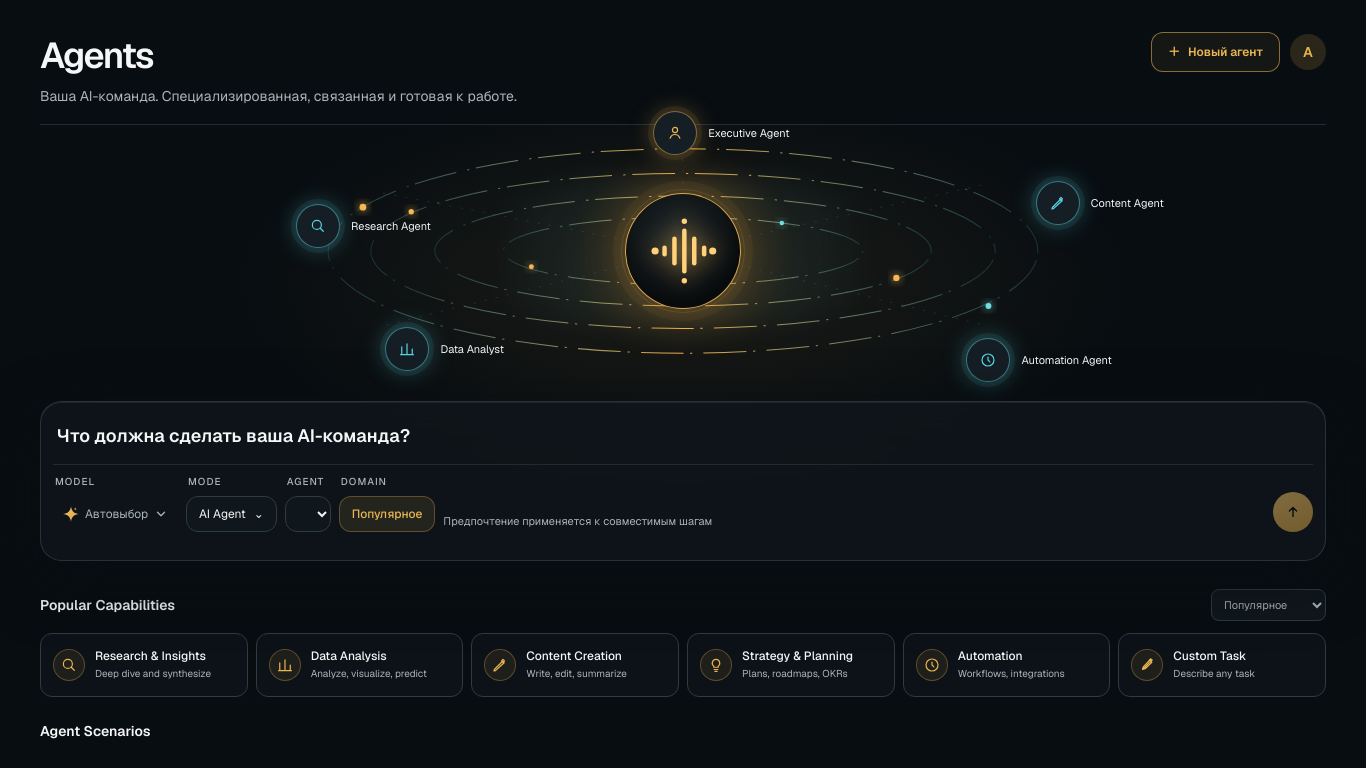
Test case: AgentsPage › lists custom agents under "Мои агенты" tab
Select "Мои агенты" in the dropdown named "Категория агентов" at (1268, 605), box [1211,589,1326,621]
(page scrolled)
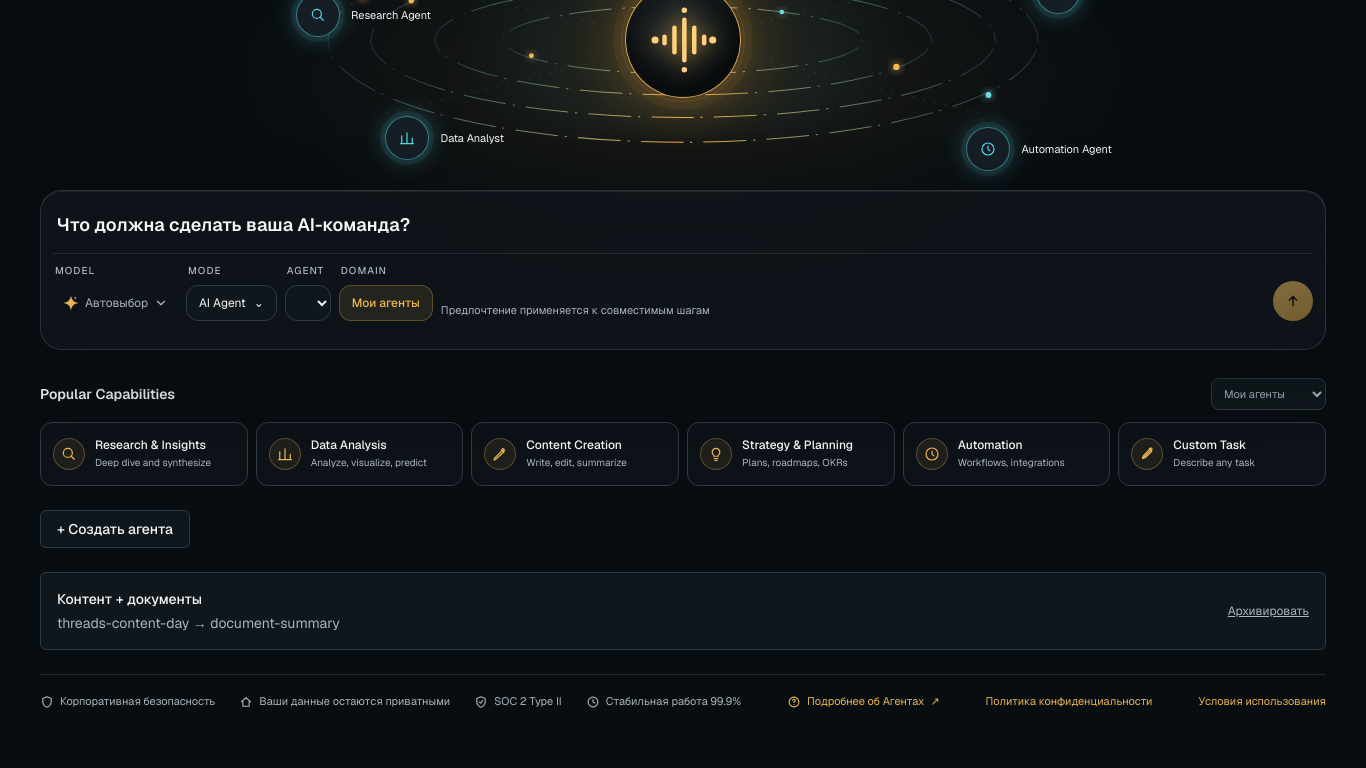
Now the heading "Контент + документы" is shown, box [57,590,202,608]
Now the text "threads-content-day → document-summary" is shown, box [57,614,340,632]
